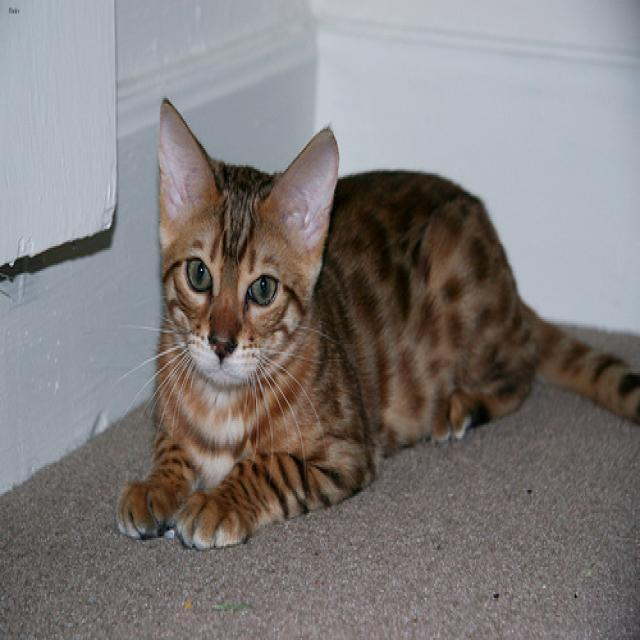Bengal: (151, 85, 340, 394)
